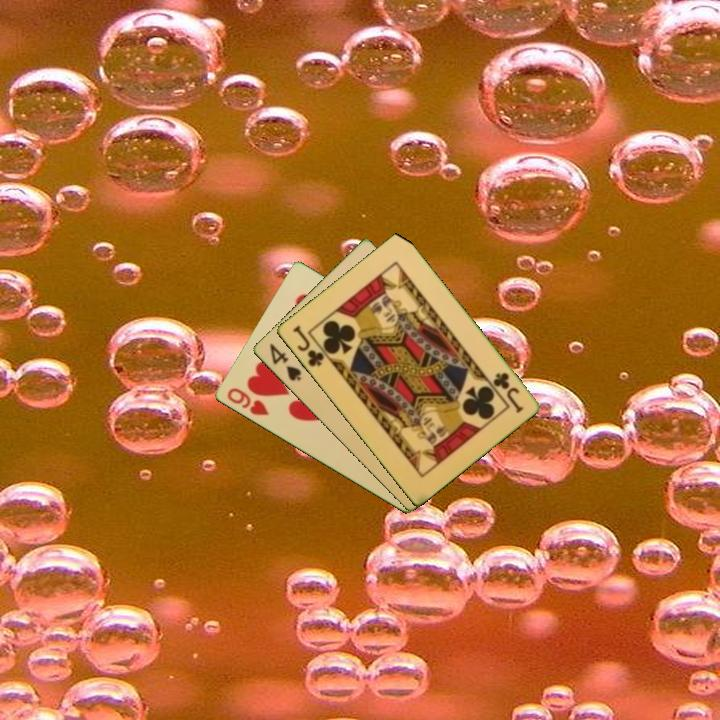4s: (265, 340, 304, 384)
9h: (223, 384, 272, 419)
Jc: (289, 321, 327, 370), (489, 368, 526, 416)
